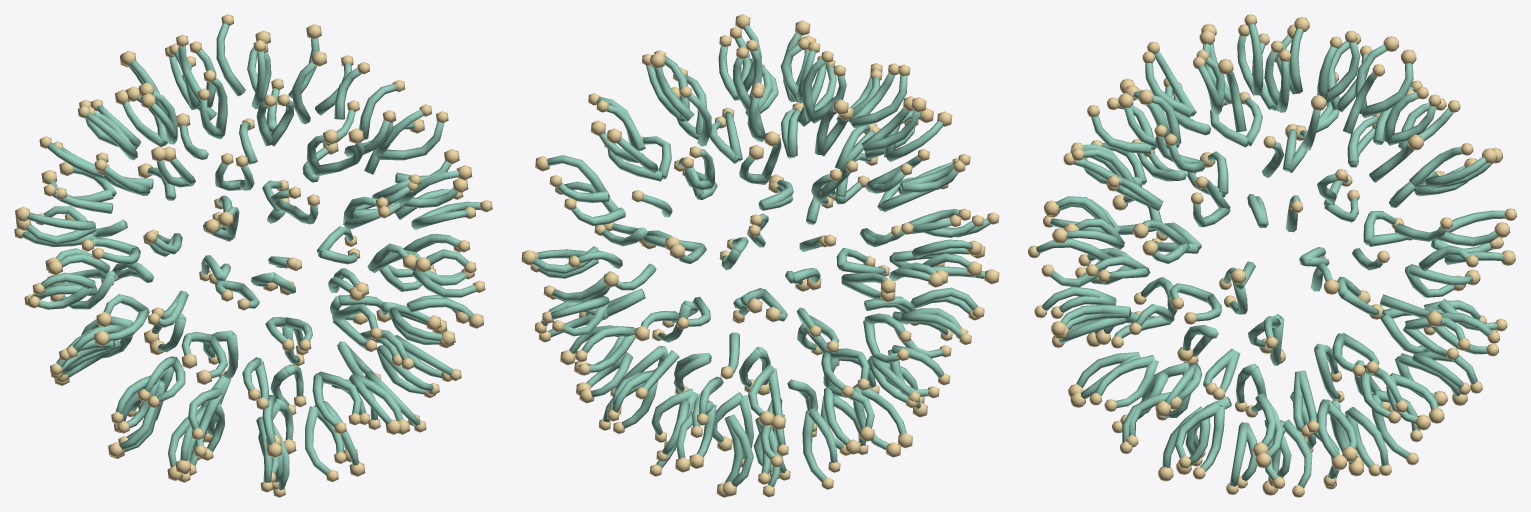
The model's file is rosemary_corona.glb.
3 renders of one model, left to right at view 1: azimuth 30°, elevation 25°; view 2: azimuth 150°, elevation 25°; view 3: azimuth 270°, elevation 25°, orthographic. The views are drawn at different scales.
Visible parts, largest first — view 1: Corona_Strands_Full, Corona_Strands_Cutaway, Corona_Tips_Full, Corona_Tips_Cutaway; view 2: Corona_Strands_Full, Corona_Strands_Cutaway, Corona_Tips_Full, Corona_Tips_Cutaway; view 3: Corona_Strands_Full, Corona_Strands_Cutaway, Corona_Tips_Full, Corona_Tips_Cutaway.
Part boxes in pixels (<box>): Corona_Strands_Full: <box>22,23,473,482</box>; Corona_Strands_Cutaway: <box>27,49,480,490</box>; Corona_Tips_Full: <box>14,14,483,492</box>; Corona_Tips_Cutaway: <box>15,41,492,497</box>; Corona_Strands_Full: <box>533,25,977,487</box>; Corona_Strands_Cutaway: <box>537,32,990,482</box>; Corona_Tips_Full: <box>521,14,984,497</box>; Corona_Tips_Cutaway: <box>532,20,999,497</box>; Corona_Strands_Full: <box>1036,28,1497,480</box>; Corona_Strands_Cutaway: <box>1050,24,1505,487</box>; Corona_Tips_Full: <box>1028,17,1509,495</box>; Corona_Tips_Cutaway: <box>1041,14,1516,497</box>.
Bounding box in the file's own units: 2.81 × 2.86 × 2.82.
